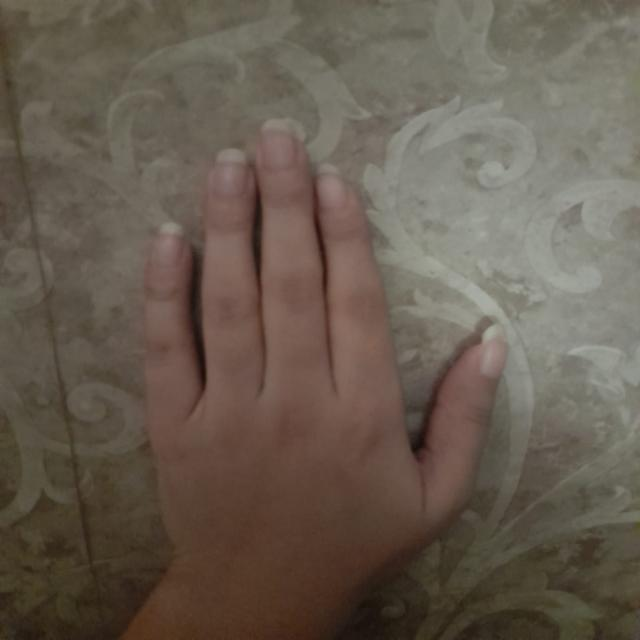Open Hand: (143, 122, 508, 583)
